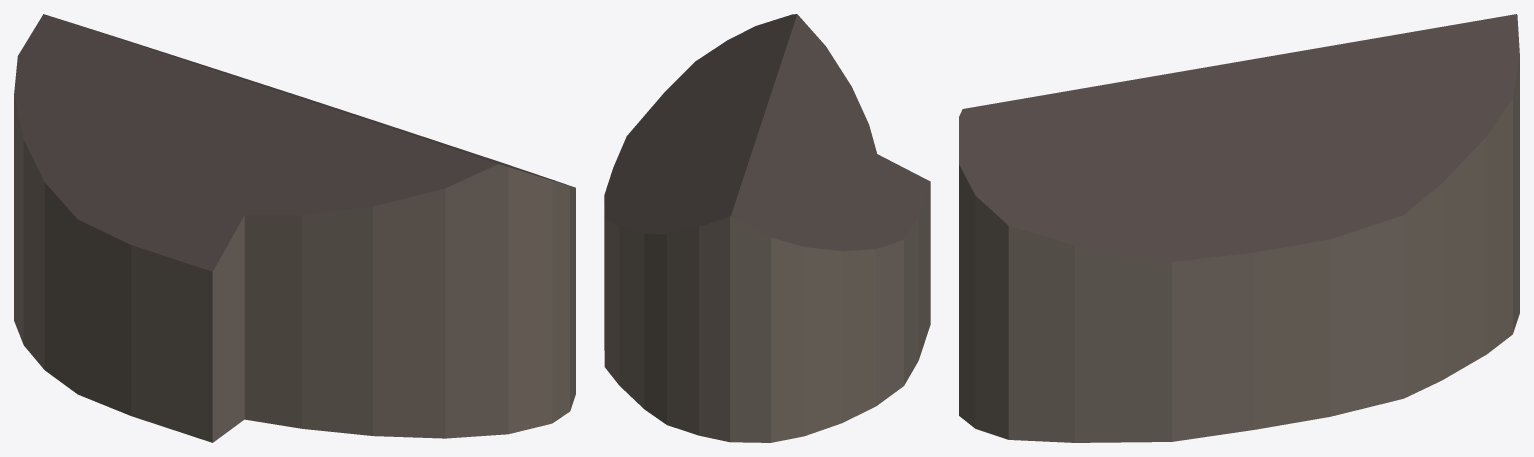
3 renders of one model, left to right at view 1: azimuth 30°, elevation 25°; view 2: azimuth 150°, elevation 25°; view 3: azimuth 270°, elevation 25°, orthographic. The views are drawn at different scales.
Visible parts, largest first — view 1: HP-w299010066; view 2: HP-w299010066; view 3: HP-w299010066.
Boxes of the visible parts, left/top/right/bottom form: HP-w299010066: left=14, top=14, right=575, bottom=442; HP-w299010066: left=604, top=14, right=930, bottom=442; HP-w299010066: left=959, top=14, right=1519, bottom=442.
Bounding box in the file's own units: 20.9 × 14.25 × 25.8.
